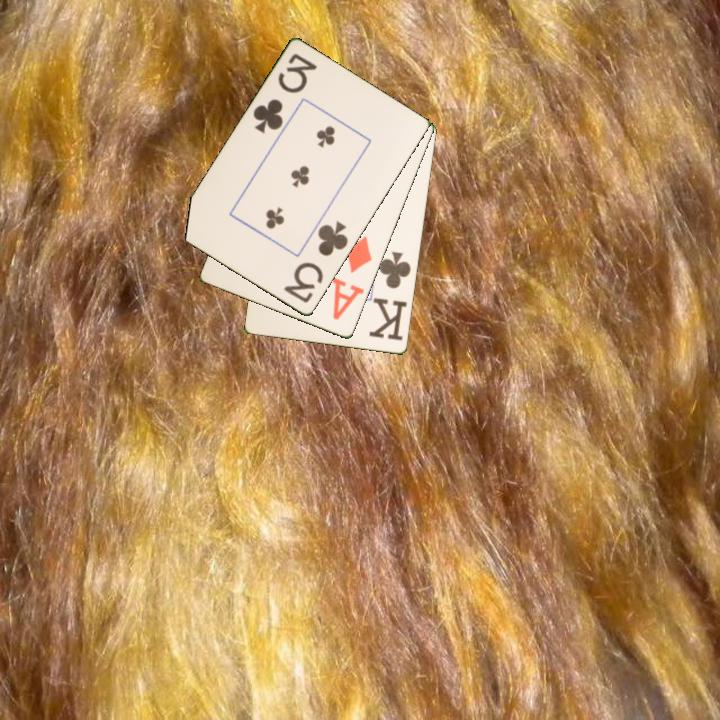3c: (280, 217, 351, 306), (249, 50, 320, 137)
Ad: (329, 232, 375, 323)
Kc: (366, 248, 414, 344)
